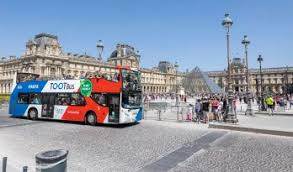bus: (8, 65, 145, 126)
